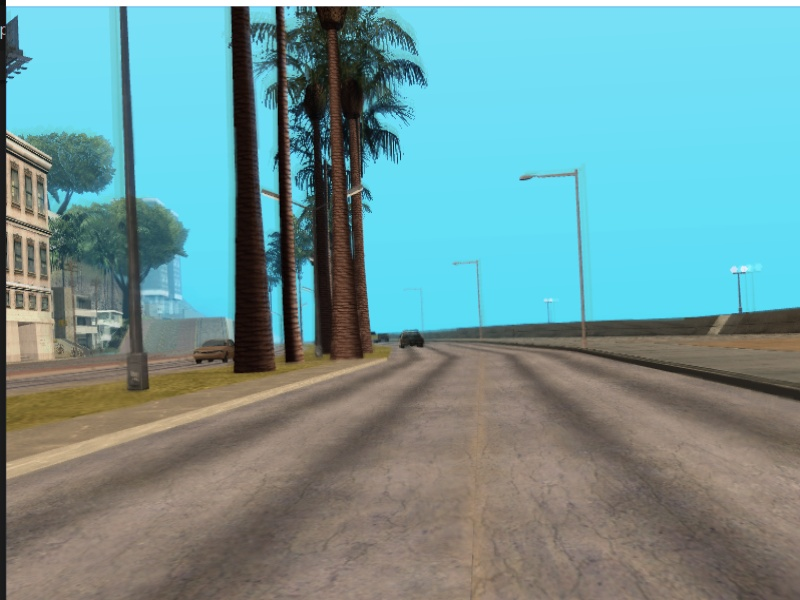pole: (117, 6, 162, 394), (571, 169, 593, 349), (472, 259, 490, 340)
tree: (228, 7, 282, 378), (269, 6, 314, 368), (326, 25, 364, 362)
vehicle: (194, 341, 235, 364), (397, 328, 427, 351)
